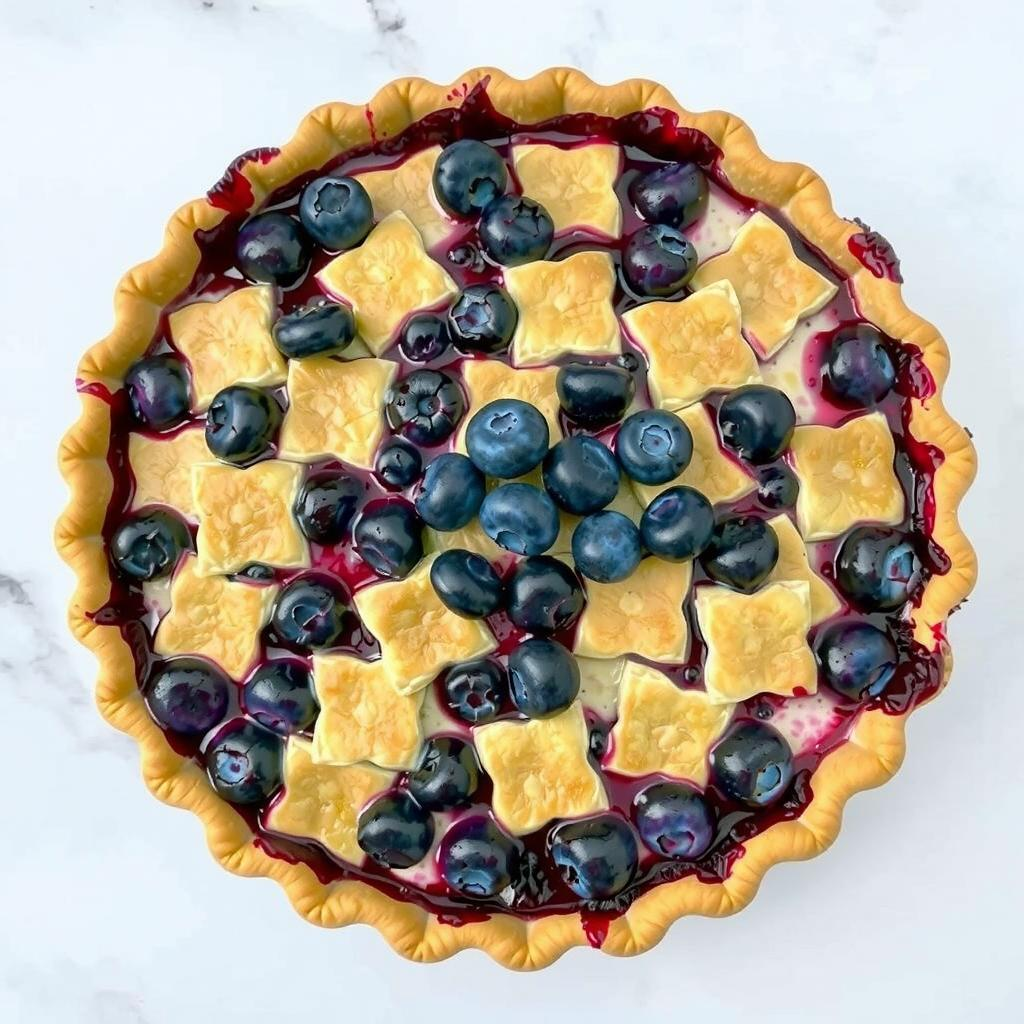pie: (50, 63, 981, 981)
